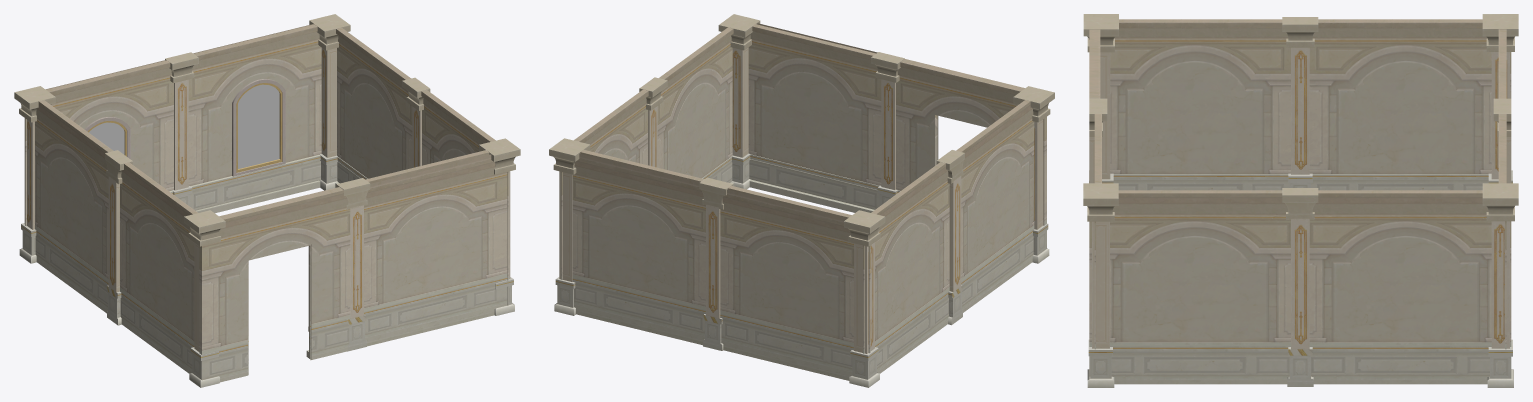
The model's file is Homeworld_Interior_Fd_Room_A_Wall_01_Vo.fbx.
The picture shows the model from 3 angles, left to right: view 1: azimuth 30°, elevation 25°; view 2: azimuth 150°, elevation 25°; view 3: azimuth 270°, elevation 25°; orthographic projection. The views are drawn at different scales.
Visible parts, largest first — view 1: Homeworld_Interior_Fd_Room_Wall_01_Vo (×5), Homeworld_Interior_Fd_Room_Wall_02_Vo (×2), Homeworld_Interior_Fd_Room_A_Filling_01_Vo, Homeworld_Interior_Fd_Room_Wall_06_Vo, Homeworld_Interior_Fd_Room_Pillar_01_Vo (×4), Homeworld_Interior_Fd_Room_Pillar_02_Vo (×4); view 2: Homeworld_Interior_Fd_Room_Wall_01_Vo (×5), Homeworld_Interior_Fd_Room_A_Filling_01_Vo, Homeworld_Interior_Fd_Room_Pillar_01_Vo (×4), Homeworld_Interior_Fd_Room_Pillar_02_Vo (×4), Homeworld_Interior_Fd_Room_Wall_06_Vo, Homeworld_Interior_Fd_Room_Wall_02_Vo (×2); view 3: Homeworld_Interior_Fd_Room_Wall_01_Vo (×5), Homeworld_Interior_Fd_Room_Pillar_01_Vo (×4), Homeworld_Interior_Fd_Room_Pillar_02_Vo (×4), Homeworld_Interior_Fd_Room_Wall_02_Vo (×2), Homeworld_Interior_Fd_Room_Wall_06_Vo.
Boxes of the visible parts, x1,y1,x2,y2 form: Homeworld_Interior_Fd_Room_Wall_01_Vo (×5): [35, 27, 508, 373]; Homeworld_Interior_Fd_Room_Wall_02_Vo (×2): [25, 24, 321, 225]; Homeworld_Interior_Fd_Room_A_Filling_01_Vo: [45, 24, 507, 375]; Homeworld_Interior_Fd_Room_Wall_06_Vo: [199, 187, 350, 382]; Homeworld_Interior_Fd_Room_Pillar_01_Vo (×4): [14, 14, 520, 387]; Homeworld_Interior_Fd_Room_Pillar_02_Vo (×4): [105, 52, 430, 351]; Homeworld_Interior_Fd_Room_Wall_01_Vo (×5): [561, 24, 1034, 373]; Homeworld_Interior_Fd_Room_A_Filling_01_Vo: [572, 23, 938, 380]; Homeworld_Interior_Fd_Room_Pillar_01_Vo (×4): [549, 14, 1054, 387]; Homeworld_Interior_Fd_Room_Pillar_02_Vo (×4): [639, 52, 964, 350]; Homeworld_Interior_Fd_Room_Wall_06_Vo: [896, 59, 1046, 248]; Homeworld_Interior_Fd_Room_Wall_02_Vo (×2): [580, 149, 870, 353]; Homeworld_Interior_Fd_Room_Wall_01_Vo (×5): [1089, 19, 1511, 384]; Homeworld_Interior_Fd_Room_Pillar_01_Vo (×4): [1083, 14, 1518, 387]; Homeworld_Interior_Fd_Room_Pillar_02_Vo (×4): [1089, 17, 1511, 386]; Homeworld_Interior_Fd_Room_Wall_02_Vo (×2): [1498, 29, 1506, 349]; Homeworld_Interior_Fd_Room_Wall_06_Vo: [1089, 29, 1100, 98].
Size of what is drawn, in the model's own units: 10.35 by 5.01 by 10.33.
